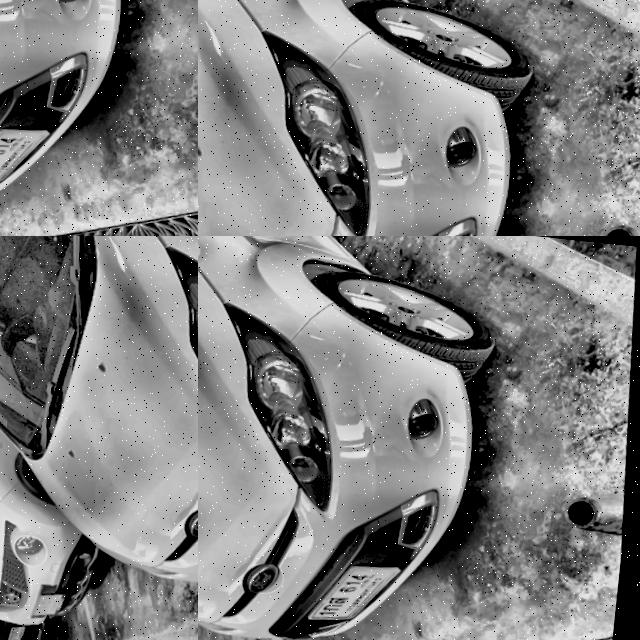license-plate: (367, 60, 575, 236), (0, 0, 122, 161), (308, 547, 417, 626)
